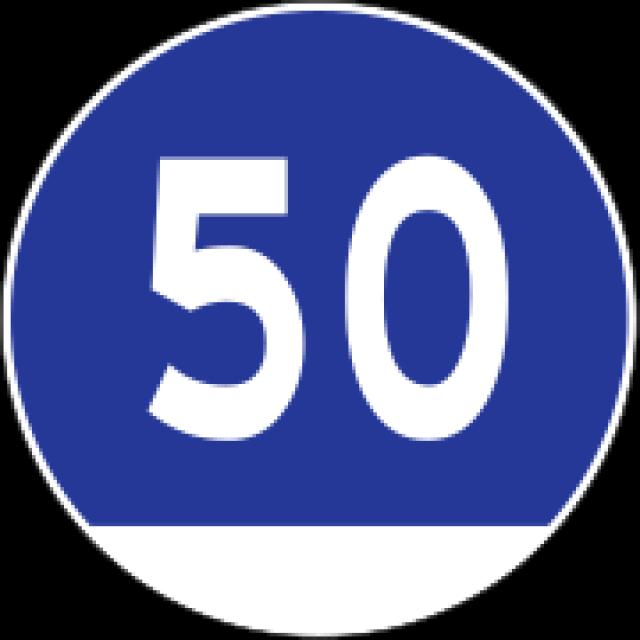Speed Limit -50-: (112, 128, 534, 460)
